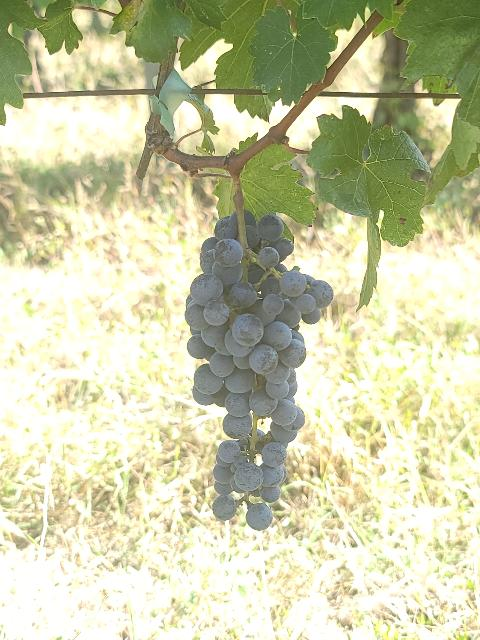grapes: (185, 211, 334, 530)
